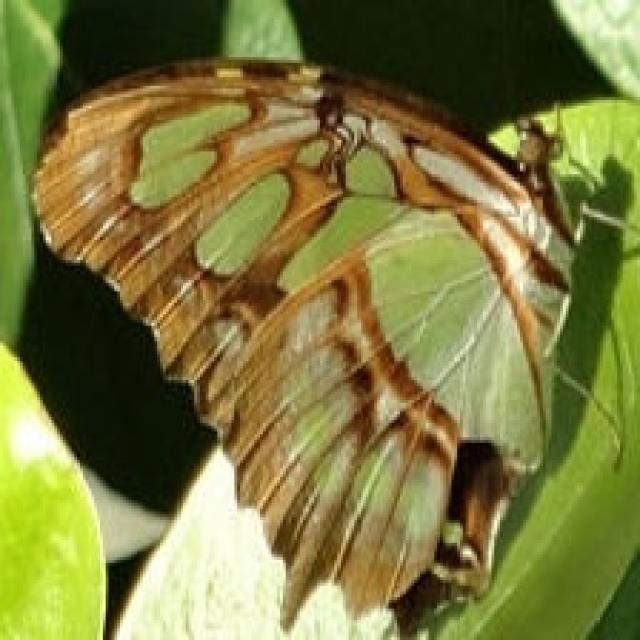butterfly: (28, 51, 623, 628)
